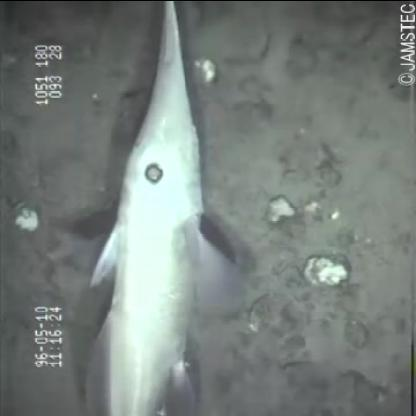Bio: (81, 1, 233, 415)
